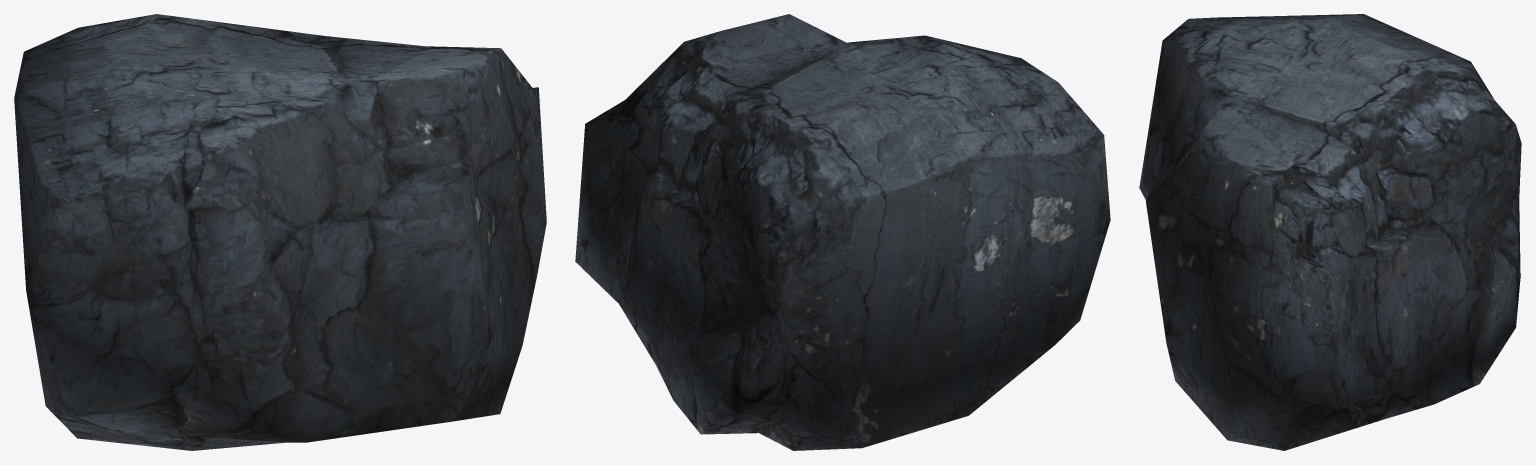
The model's file is Coal.fbx.
3 views of the same model, side by side, from view 1: azimuth 30°, elevation 25°; view 2: azimuth 150°, elevation 25°; view 3: azimuth 270°, elevation 25° (orthographic). The views are drawn at different scales.
Parts seen in each view (by area): view 1: Object_3_LOD5_LOD5; view 2: Object_3_LOD5_LOD5; view 3: Object_3_LOD5_LOD5.
Part boxes in pixels (bbox=[...]): Object_3_LOD5_LOD5: bbox=[14, 14, 546, 450]; Object_3_LOD5_LOD5: bbox=[575, 14, 1110, 450]; Object_3_LOD5_LOD5: bbox=[1139, 14, 1521, 450].
Bounding box in the file's own units: 0.3997 × 0.2506 × 0.2928.
